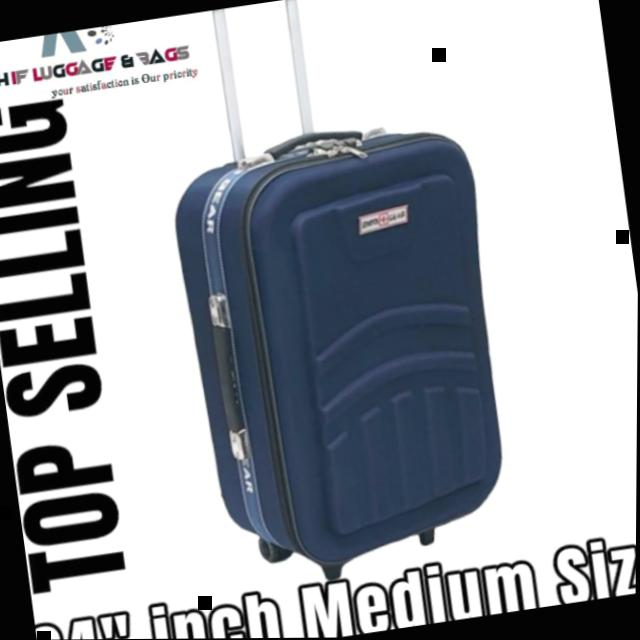luggage: (157, 101, 528, 586)
